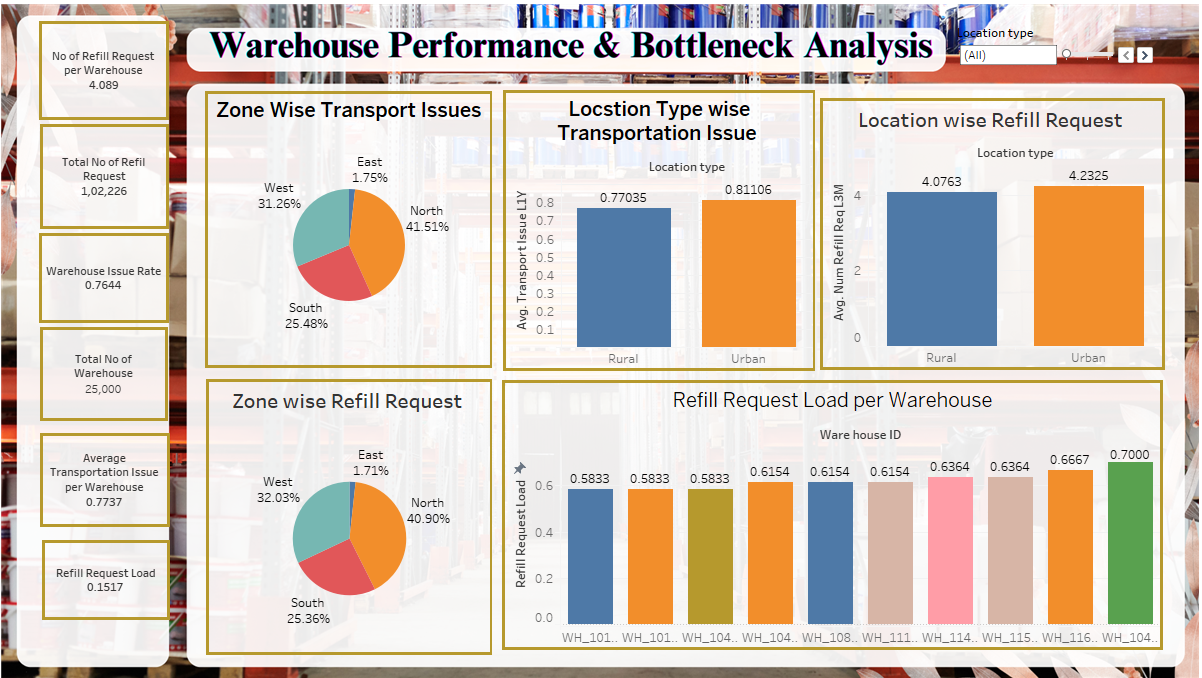

Layout of this report page (visuals, bound fields, positions):
{"tool":"tableau","page":{"name":"Dashboard 3","canvas":[1000,1000],"units":"permille","ordinal":1},"visuals":[{"type":"image","param":"C:/Users/Admin/Downloads/Warehouse Performance & Bottleneck Analysis (1).png","box":[6,12.1,987.9,975.8]},{"type":"worksheet","title":"Sheet 13","mark":"Automatic","box":[89.4,40.9,95.5,142.4]},{"type":"filter","title":"chart4","param":"[federated.18gyl3y0dhv8mu14harxg0q3wa1f].[none:Location_type:nk]","box":[761.4,45.5,146.2,84.9]},{"type":"worksheet","title":"Transportation Issue Rate","mark":"Automatic","rows":["transport_issue_l1y"],"cols":["Location_type"],"box":[428.8,140.9,228.8,403]},{"type":"worksheet","title":"hart","mark":"Pie","box":[210.6,142.4,210.6,397]},{"type":"worksheet","title":"chart4","mark":"Automatic","rows":["num_refill_req_l3m"],"cols":["Location_type"],"box":[661.4,151.5,252.3,389.4]},{"type":"worksheet","title":"Sheet 10","mark":"Automatic","box":[90.2,189.4,94.7,150]},{"type":"worksheet","title":"Sheet 5","mark":"Automatic","box":[89.4,345.4,95.5,128.8]},{"type":"worksheet","title":"Sheet 3","mark":"Automatic","box":[90.2,480.3,93.9,134.8]},{"type":"worksheet","title":"chart","mark":"Pie","box":[211.4,554.6,209.8,395.4]},{"type":"worksheet","title":"Refill Request Load per Warehouse","mark":"Automatic","rows":["Calculation_661747724739563521"],"cols":["Ware_house_ID"],"box":[428,556.1,484.1,386.4]},{"type":"worksheet","title":"Sheet 12","mark":"Automatic","box":[90.2,631.8,95.5,134.8]},{"type":"worksheet","title":"Sheet 4","mark":"Automatic","box":[91.7,784.9,93.9,115.2]}]}

Visuals, with their boxes on the dashboard's canvas, which has no fixed pixel size, in thousandths of its width and height (x1, y1, x2, y2). These are canvas units, not pixel positions in the 1202x678 screenshot, which may show the page scaled, cropped or inside an application window:
image: l=6, t=12, r=994, b=988
"Sheet 13" worksheet: l=89, t=41, r=185, b=183
"chart4" filter: l=761, t=46, r=908, b=130
"Transportation Issue Rate" worksheet: l=429, t=141, r=658, b=544
"hart" worksheet (Pie marks): l=211, t=142, r=421, b=539
"chart4" worksheet: l=661, t=152, r=914, b=541
"Sheet 10" worksheet: l=90, t=189, r=185, b=339
"Sheet 5" worksheet: l=89, t=345, r=185, b=474
"Sheet 3" worksheet: l=90, t=480, r=184, b=615
"chart" worksheet (Pie marks): l=211, t=555, r=421, b=950
"Refill Request Load per Warehouse" worksheet: l=428, t=556, r=912, b=942
"Sheet 12" worksheet: l=90, t=632, r=186, b=767
"Sheet 4" worksheet: l=92, t=785, r=186, b=900
